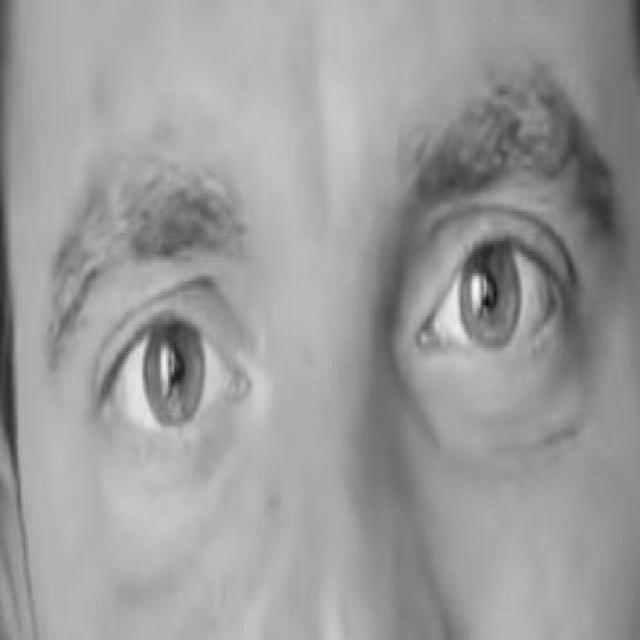real: (59, 144, 613, 484)
